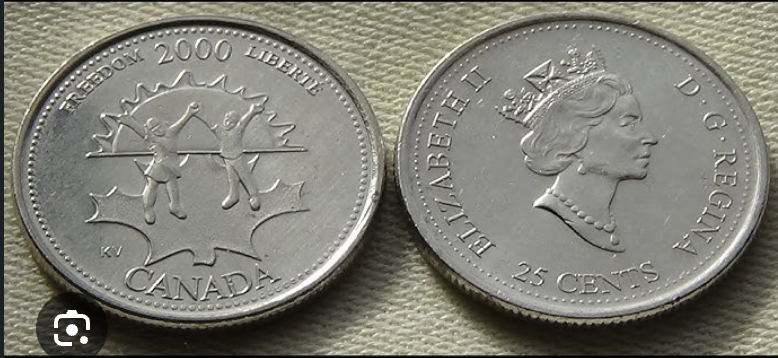coin: (396, 13, 768, 323), (12, 17, 383, 326)
